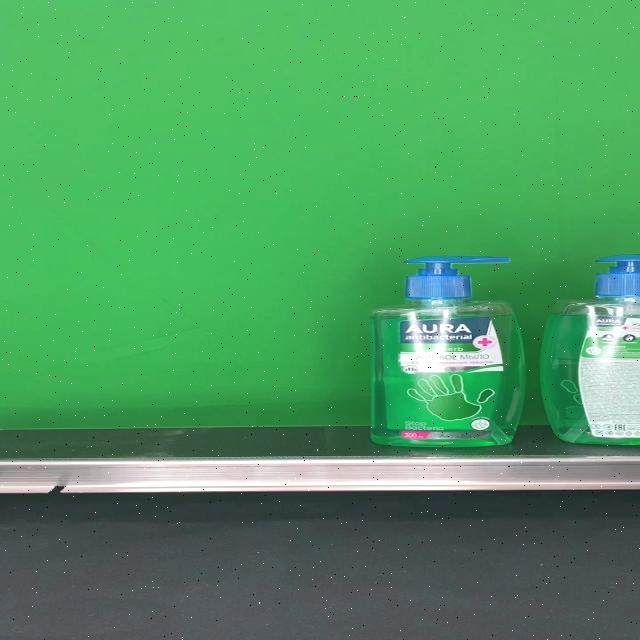Bottle: (368, 255, 526, 448)
Cap: (403, 256, 511, 300)
